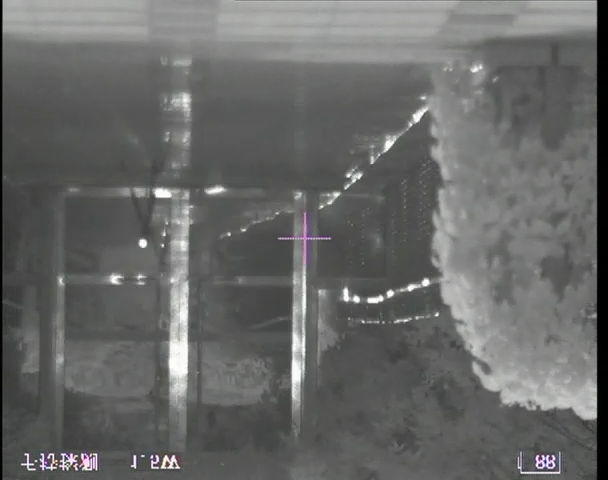my: (137, 238, 149, 249)
